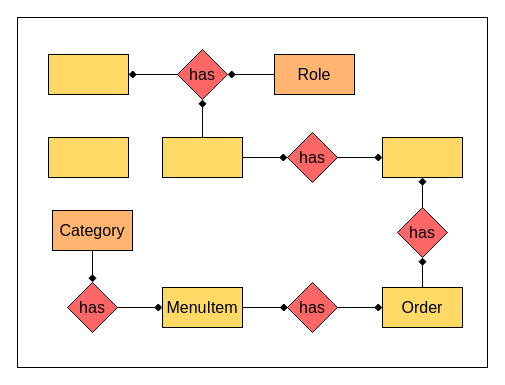
This 505x385 diagram has some shape labels left out. Each missing label, with the centre of its shape:
"Booking" belongs at pixel 422 157.
"Feedback" belongs at pixel 88 157.
"Table" belongs at pixel 202 157.
"User" belongs at pixel 88 74.
